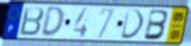4: (72, 7, 89, 39)
7: (96, 6, 118, 40)
B: (142, 8, 171, 41), (18, 6, 46, 38)
D: (39, 6, 65, 39), (120, 8, 146, 40)
